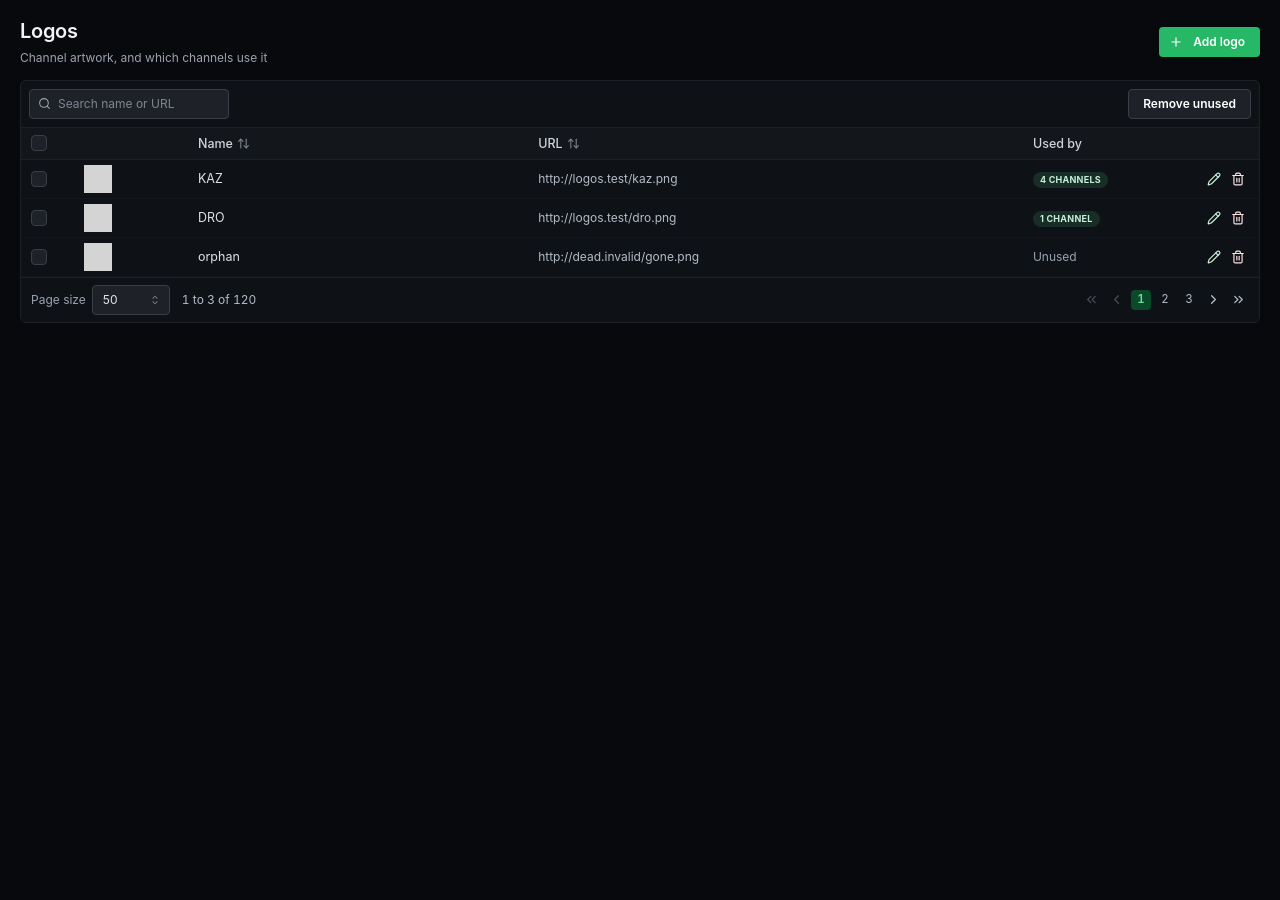
Test: creating and renaming logos › requires a URL
Expected: the text "KAZ" is shown, [188,160,528,199]
Click the button "Add logo". click: {"x": 1209, "y": 42}
box: [1159,27,1260,57]
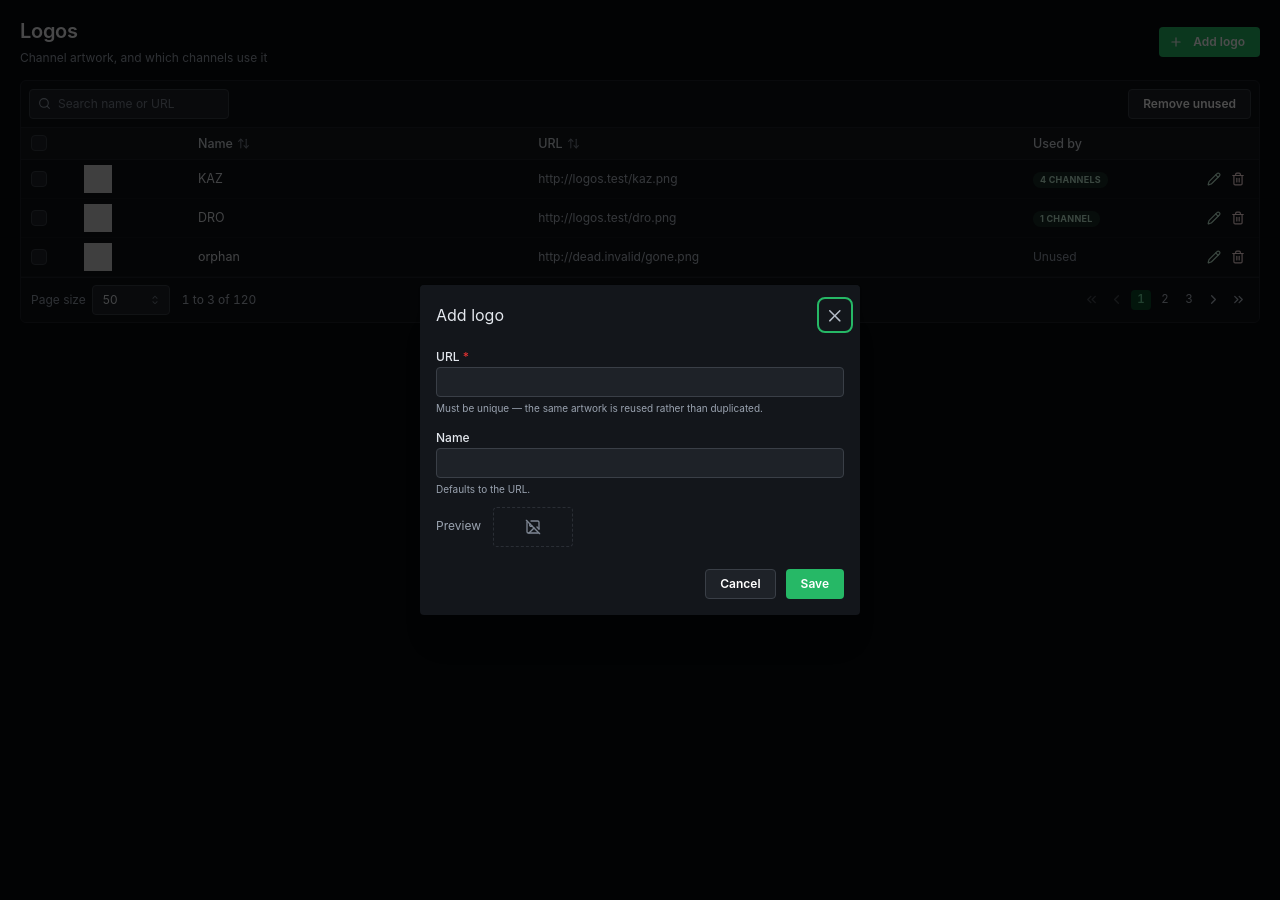
Click the button "Save". click: {"x": 815, "y": 584}
box: [786,569,844,599]
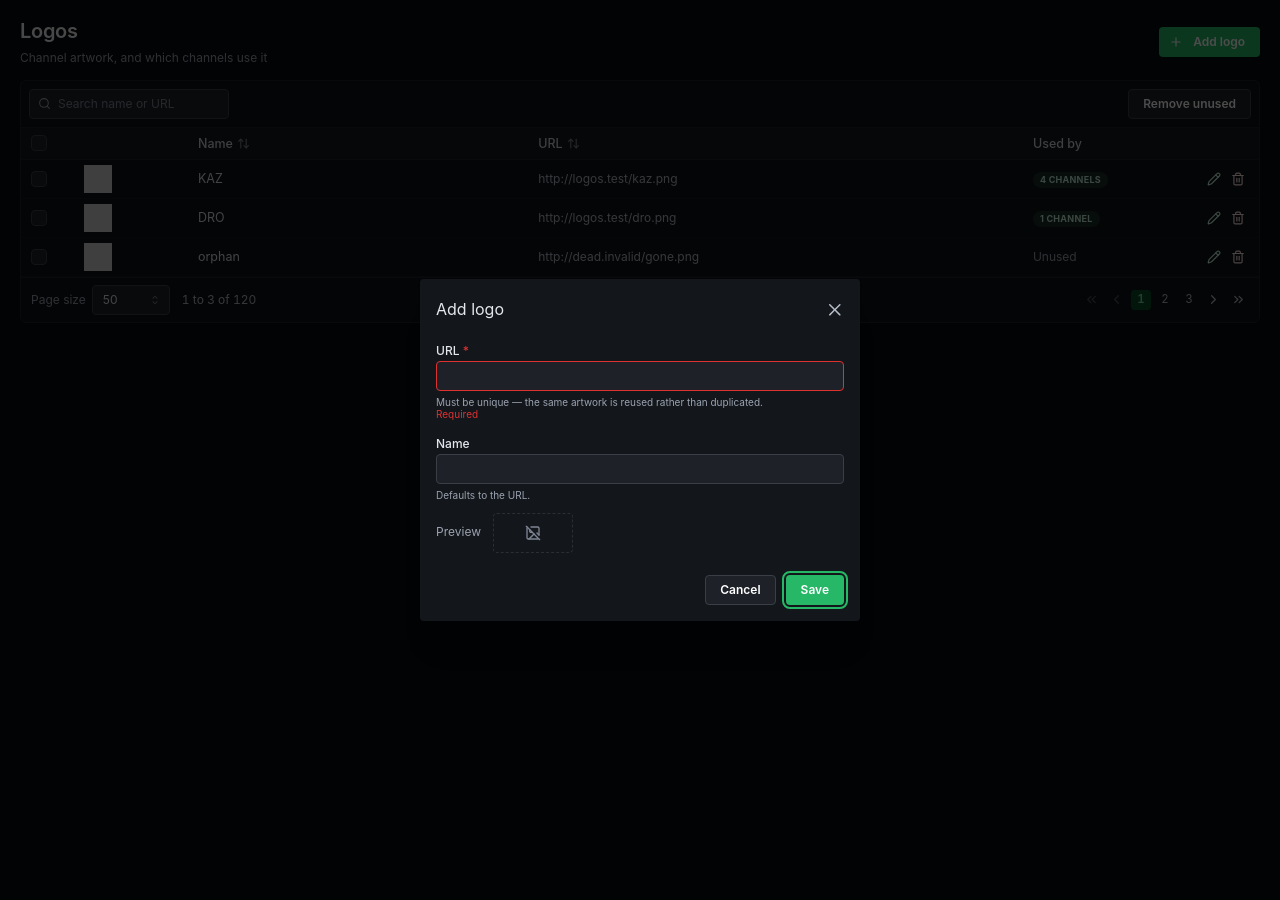
Expected: the text "Required" is shown, [436,408,478,420]
